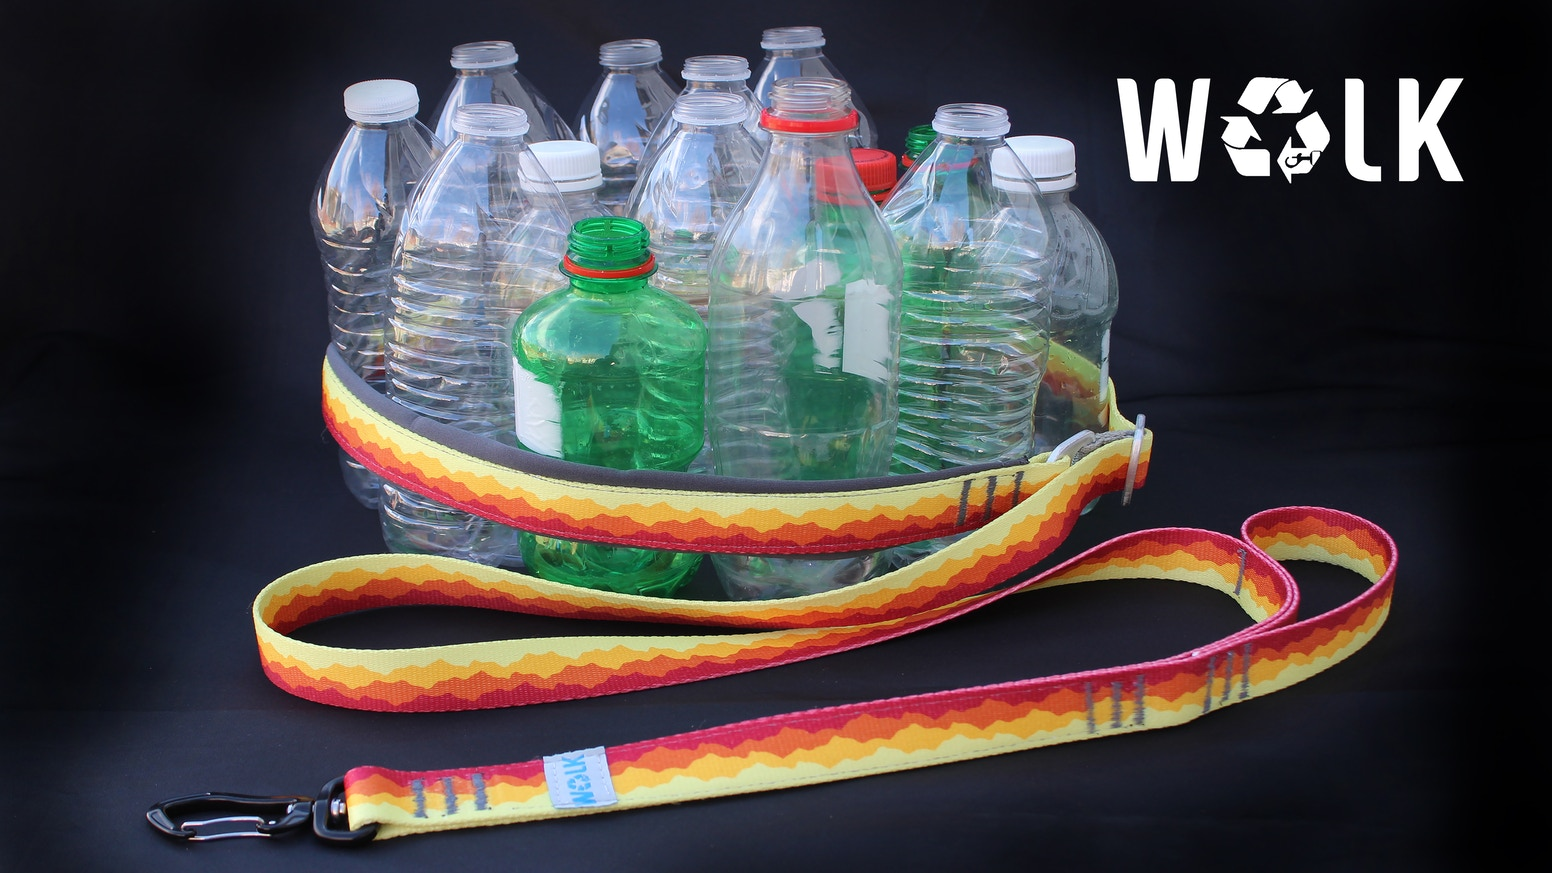plastic_bottle: (586, 3, 1142, 728), (397, 27, 886, 626), (444, 60, 875, 656), (282, 43, 740, 587), (857, 12, 1321, 506), (675, 64, 1081, 625), (919, 41, 1323, 595), (342, 2, 714, 534), (648, 38, 1013, 512), (460, 143, 785, 652), (209, 17, 495, 588), (713, 1, 1119, 322), (801, 109, 1012, 413)
